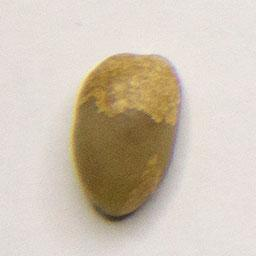longberry: (68, 48, 186, 226)
